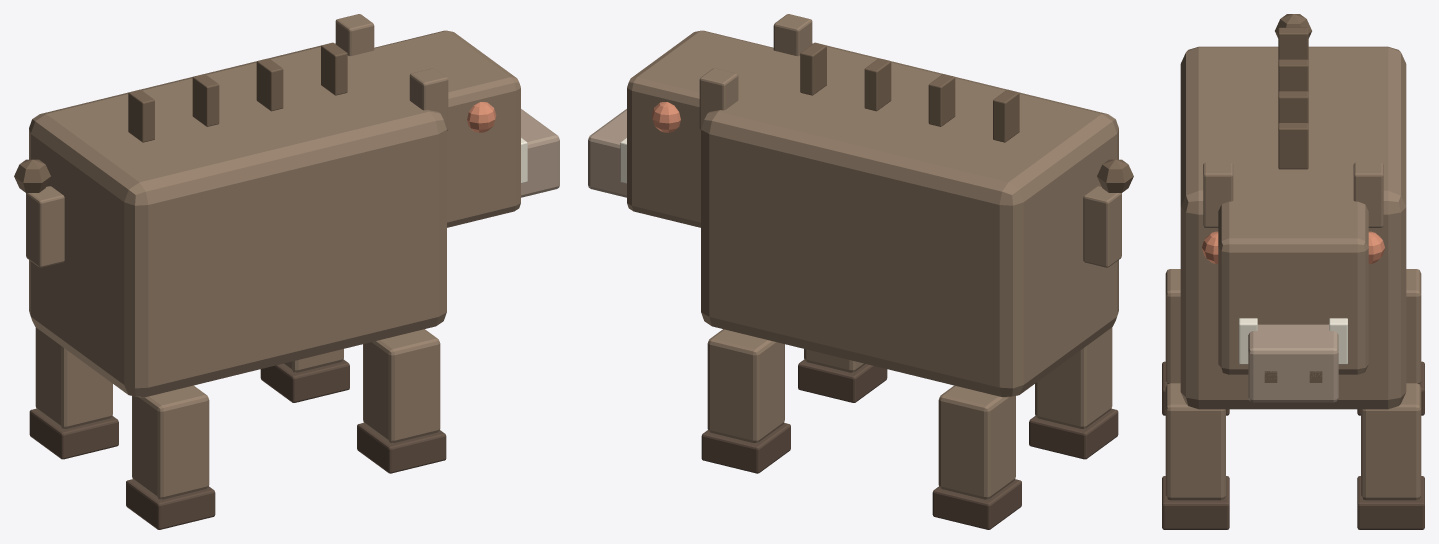
The model's file is boar_v2.glb.
3 views of the same model, side by side, from view 1: azimuth 30°, elevation 25°; view 2: azimuth 150°, elevation 25°; view 3: azimuth 270°, elevation 25° (orthographic).
Visible parts, largest first — view 1: Body_Mesh, Head_Mesh, LegBL_Shaft, LegFL_Shaft, LegBR_Shaft, Tail_Base, LegBR_Hoof, LegBL_Hoof, LegFL_Hoof, LegFR_Hoof, Snout, Ear_L (+8 smaller); view 2: Body_Mesh, Head_Mesh, LegBR_Shaft, LegFR_Shaft, LegBL_Shaft, Tail_Base, LegBL_Hoof, LegBR_Hoof, LegFR_Hoof, LegFL_Hoof, Snout, Ear_R (+8 smaller); view 3: Body_Mesh, Head_Mesh, Snout, LegFL_Shaft, LegFR_Shaft, LegFL_Hoof, LegFR_Hoof, LegBL_Shaft, LegBR_Shaft, Ear_L, Ear_R, Bristle_0 (+8 smaller).
Part boxes in pixels (left/top/right/bottom): Body_Mesh: left=29, top=43, right=446, bottom=397; Head_Mesh: left=353, top=30, right=520, bottom=227; LegBL_Shaft: left=132, top=385, right=209, bottom=499; LegFL_Shaft: left=363, top=329, right=440, bottom=443; LegBR_Shaft: left=35, top=327, right=112, bottom=428; Tail_Base: left=26, top=186, right=64, bottom=267; LegBR_Hoof: left=29, top=408, right=118, bottom=459; LegBL_Hoof: left=126, top=479, right=215, bottom=529; LegFL_Hoof: left=357, top=423, right=446, bottom=473; LegFR_Hoof: left=260, top=359, right=349, bottom=402; Snout: left=521, top=109, right=559, bottom=197; Ear_L: left=409, top=68, right=448, bottom=130; Body_Mesh: left=701, top=43, right=1118, bottom=397; Head_Mesh: left=627, top=30, right=794, bottom=227; LegBR_Shaft: left=938, top=385, right=1015, bottom=499; LegFR_Shaft: left=707, top=329, right=784, bottom=443; LegBL_Shaft: left=1035, top=327, right=1112, bottom=428; Tail_Base: left=1083, top=186, right=1121, bottom=267; LegBL_Hoof: left=1029, top=408, right=1118, bottom=459; LegBR_Hoof: left=932, top=479, right=1021, bottom=529; LegFR_Hoof: left=701, top=423, right=790, bottom=473; LegFL_Hoof: left=798, top=359, right=887, bottom=402; Snout: left=588, top=109, right=626, bottom=197; Ear_R: left=699, top=68, right=738, bottom=130; Body_Mesh: left=1180, top=46, right=1406, bottom=409; Head_Mesh: left=1218, top=190, right=1368, bottom=374; Snout: left=1248, top=324, right=1338, bottom=402; LegFL_Shaft: left=1165, top=383, right=1225, bottom=500; LegFR_Shaft: left=1361, top=383, right=1421, bottom=500; LegFL_Hoof: left=1162, top=476, right=1229, bottom=529; LegFR_Hoof: left=1357, top=476, right=1424, bottom=529; LegBL_Shaft: left=1165, top=269, right=1180, bottom=384; LegBR_Shaft: left=1406, top=269, right=1421, bottom=384; Ear_L: left=1203, top=162, right=1233, bottom=227; Ear_R: left=1353, top=162, right=1383, bottom=227; Bristle_0: left=1278, top=123, right=1308, bottom=169.
Size of the model in its own units: 0.8117 by 0.56 by 0.35.
